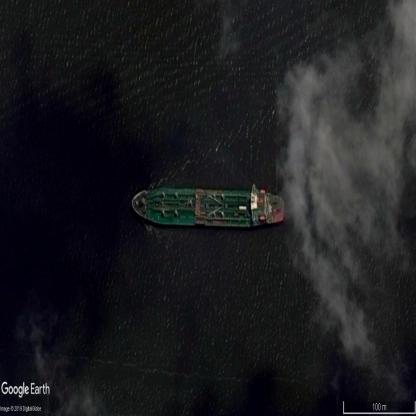ship: (132, 188, 285, 228)
